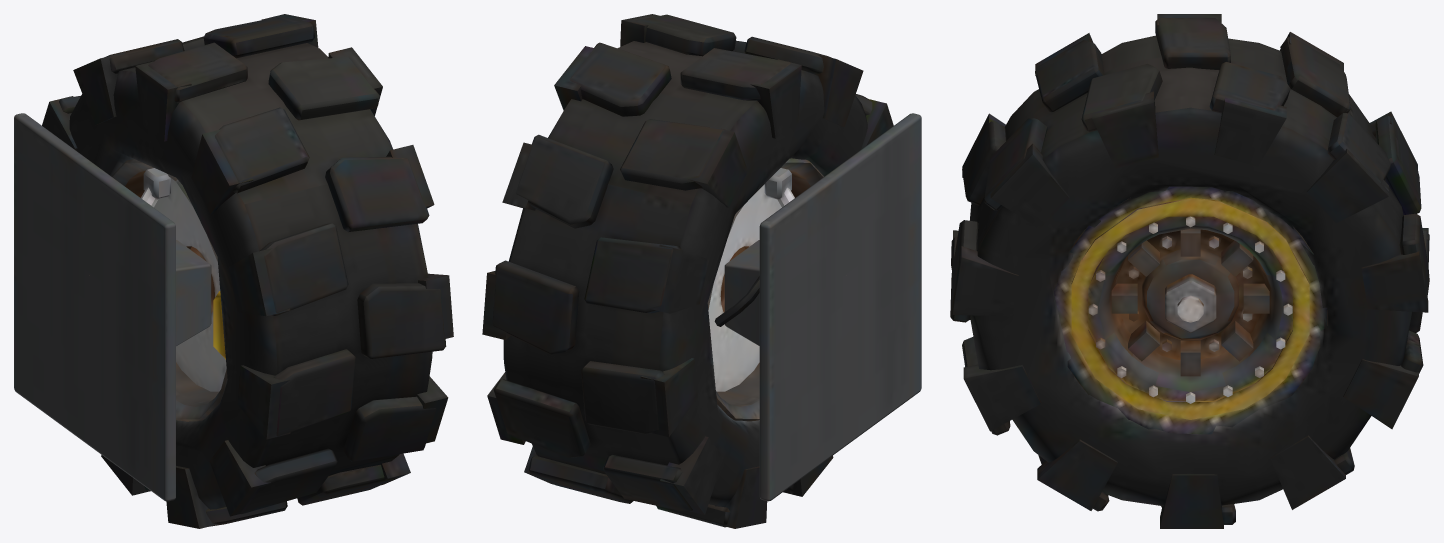
File: R4M_WheelM_Side_Offroad_LOD1.glb
3 renders of one model, left to right at view 1: azimuth 30°, elevation 25°; view 2: azimuth 150°, elevation 25°; view 3: azimuth 270°, elevation 25°, orthographic.
Parts seen in each view (by area): view 1: R4M_WheelM_Side_Offroad_LOD1; view 2: R4M_WheelM_Side_Offroad_LOD1; view 3: R4M_WheelM_Side_Offroad_LOD1.
Boxes of the visible parts, x1,y1,x2,y2 form: R4M_WheelM_Side_Offroad_LOD1: (14,14,453,528); R4M_WheelM_Side_Offroad_LOD1: (482,14,921,528); R4M_WheelM_Side_Offroad_LOD1: (950,14,1429,528).
Bounding box in the file's own units: 0.4514 × 0.7726 × 0.7771.
4 materials, 4 textured.
